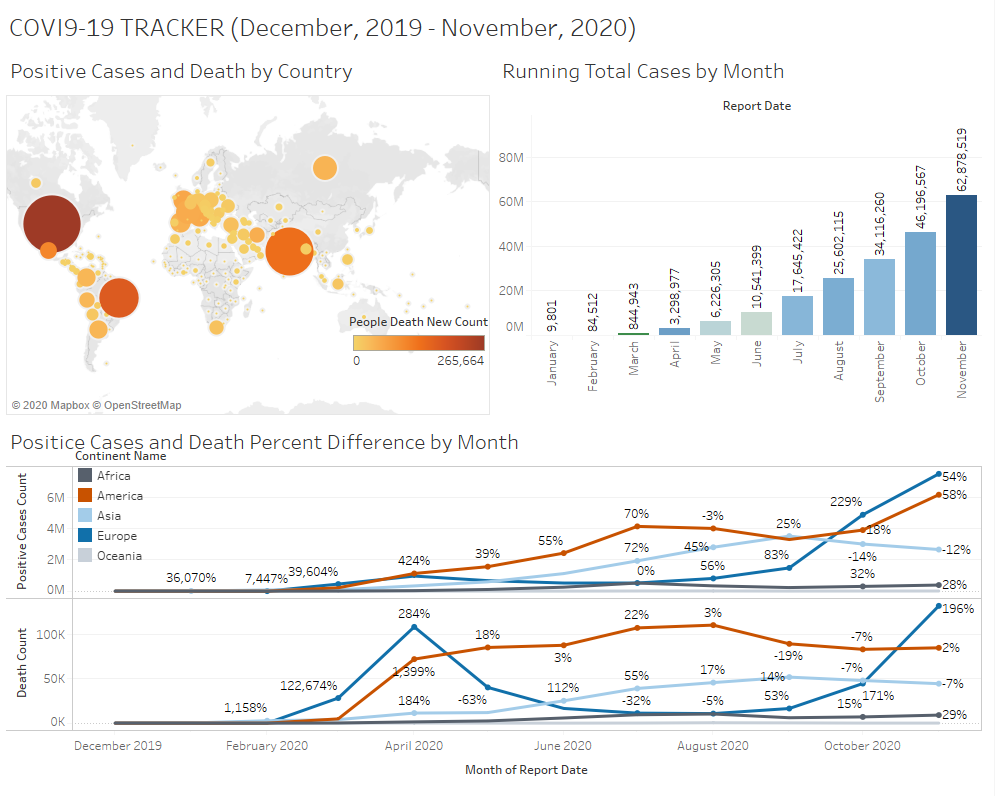

What the dashboard file says about the page in this screenshot:
{"tool":"tableau","page":{"name":"COVI9-19 TRACKER (December, 2019 - November, 2020)","canvas":[1000,800],"ordinal":0},"visuals":[{"type":"worksheet","box":[0,0,1000,800]},{"type":"worksheet","param":"vert","box":[8,8,984,784]},{"type":"worksheet","box":[8,8,984,42]},{"type":"worksheet","param":"horz","box":[8,50,984,742]},{"type":"worksheet","box":[8,50,984,742]},{"type":"worksheet","title":"Positive Cases and Death by Country","mark":"Automatic","box":[8,50,492,371]},{"type":"worksheet","title":"Running Total Cases by Month","mark":"Bar","rows":["people_positive_new_cases_count"],"cols":["report_date"],"box":[500,50,492,371]},{"type":"worksheet","title":"Positive Cases and Death by Country","mark":"Automatic","param":"[federated.1e0kqnh1db001n1569as60bmv0nu].[sum:people_death_new_count:qk]","box":[355,315,140,76]},{"type":"worksheet","title":"Positice Cases and Death Percent Difference by Month","mark":"Automatic","rows":["people_positive_new_cases_count","people_death_new_count"],"cols":["report_date"],"box":[8,421,984,371]},{"type":"worksheet","title":"Positice Cases and Death Percent Difference by Month","mark":"Automatic","rows":["people_positive_new_cases_count","people_death_new_count"],"cols":["report_date"],"param":"[federated.1e0kqnh1db001n1569as60bmv0nu].[none:continent_name:nk]","box":[81,449,140,118]}]}

Visuals, with their boxes in screenshot pixels (x1, y1, x2, y2), scaled from the page's 1000x800 canvas onto the 995x796 screenshot:
worksheet: left=0, top=0, right=994, bottom=795
worksheet: left=8, top=8, right=987, bottom=788
worksheet: left=8, top=8, right=987, bottom=50
worksheet: left=8, top=50, right=987, bottom=788
worksheet: left=8, top=50, right=987, bottom=788
"Positive Cases and Death by Country" worksheet: left=8, top=50, right=498, bottom=419
"Running Total Cases by Month" worksheet (Bar marks): left=498, top=50, right=987, bottom=419
"Positive Cases and Death by Country" worksheet: left=353, top=313, right=493, bottom=389
"Positice Cases and Death Percent Difference by Month" worksheet: left=8, top=419, right=987, bottom=788
"Positice Cases and Death Percent Difference by Month" worksheet: left=81, top=447, right=220, bottom=564
